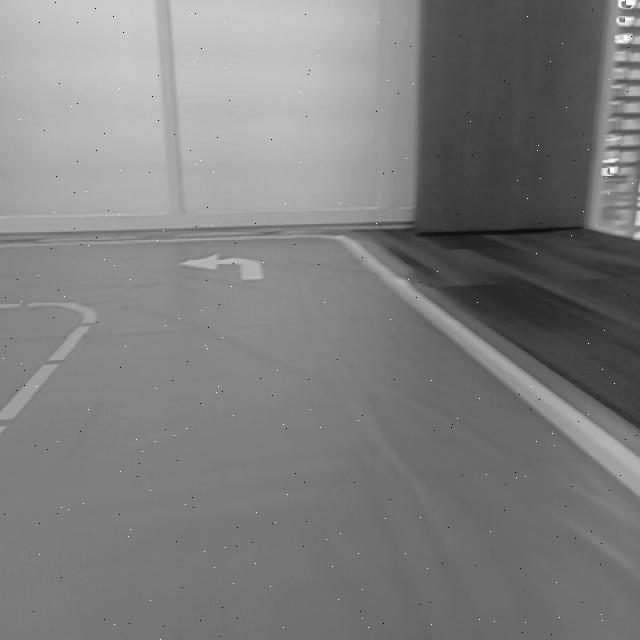left_lane: (0, 313, 97, 440)
right_lane: (343, 245, 640, 496)
